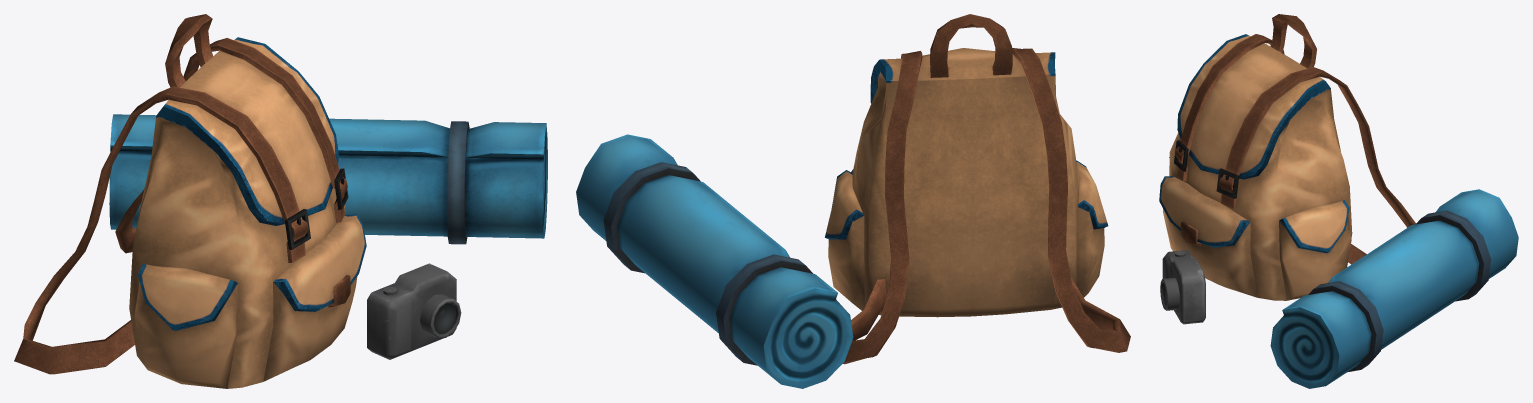
Rendered from travel_time.glb.
The picture shows the model from 3 angles, left to right: view 1: azimuth 30°, elevation 25°; view 2: azimuth 150°, elevation 25°; view 3: azimuth 270°, elevation 25°; orthographic projection. The views are drawn at different scales.
Parts seen in each view (by area): view 1: pCube6, pCylinder1, pCube4; view 2: pCube6, pCylinder1; view 3: pCube6, pCylinder1, pCube4.
Boxes of the visible parts, x1,y1,x2,y2 form: pCube6: (14,14,366,388); pCylinder1: (109,114,547,244); pCube4: (367,263,461,359); pCube6: (825,14,1130,364); pCylinder1: (576,134,853,388); pCube6: (1159,14,1415,300); pCylinder1: (1270,189,1518,388); pCube4: (1160,250,1205,324).
Size of the model in its own units: 0.2505 by 0.138 by 0.1827.
Materials: 1 (1 with a texture image).
